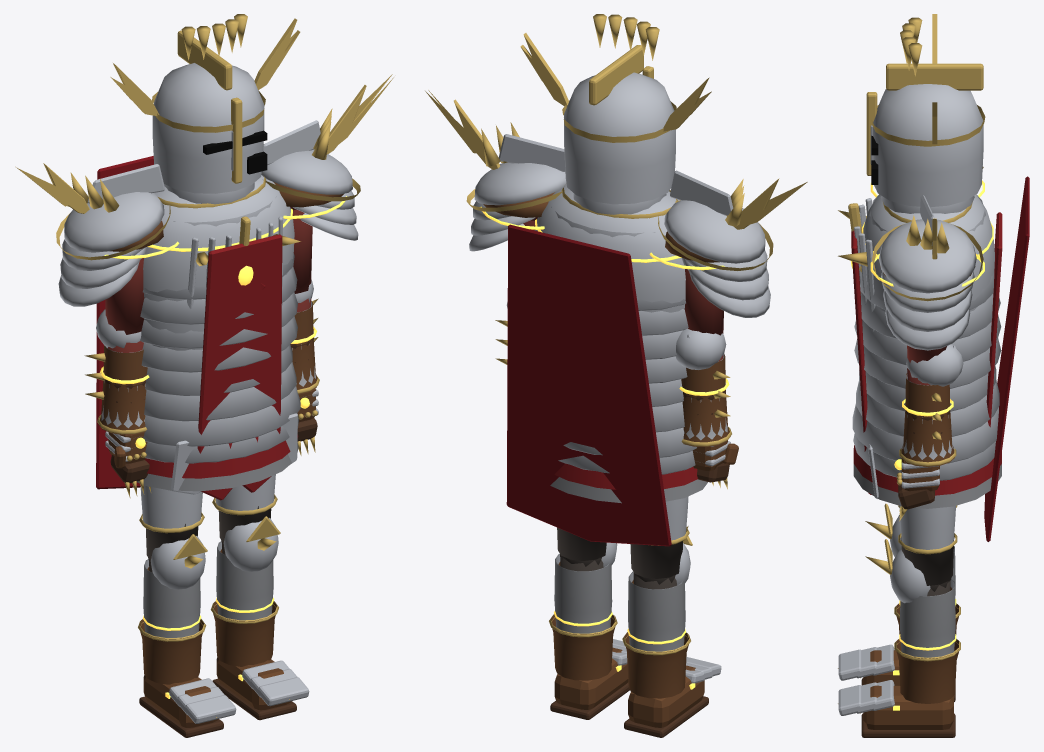
The model's file is hero_knight.glb.
The picture shows the model from 3 angles, left to right: view 1: azimuth 30°, elevation 25°; view 2: azimuth 150°, elevation 25°; view 3: azimuth 270°, elevation 25°; orthographic projection.
Parts seen in each view (by area): view 1: tabard, helm.001, cuirass, lame.002, fauld.005, fauld.004, bracer.001, greave, greave.001, lame, cuff.001, cuff (+42 smaller); view 2: cape, helm.001, cuirass, lame.002, greave.001, greave, lame, bracer.001, cuff.001, cuff, boot.001, boot (+29 smaller); view 3: helm.001, lame, cape, cuirass, greave, bracer, cuff, boot, fauld.005, fauld.004, crestfin, cuisse (+35 smaller).
Boxes of the visible parts, <box> form: tabard: <box>197,234,282,500</box>; helm.001: <box>152,63,264,193</box>; cuirass: <box>143,175,294,301</box>; lame.002: <box>64,192,164,252</box>; fauld.005: <box>143,386,300,446</box>; fauld.004: <box>144,362,296,421</box>; bracer.001: <box>98,345,147,434</box>; greave: <box>216,541,273,620</box>; greave.001: <box>143,559,200,637</box>; lame: <box>261,149,352,194</box>; cuff.001: <box>139,619,204,684</box>; cuff: <box>211,601,277,666</box>; cape: <box>506,224,671,546</box>; helm.001: <box>564,72,675,204</box>; cuirass: <box>534,185,685,312</box>; lame.002: <box>664,200,765,263</box>; greave.001: <box>628,571,685,651</box>; greave: <box>554,553,612,633</box>; lame: <box>474,162,566,205</box>; bracer.001: <box>681,354,730,446</box>; cuff.001: <box>623,632,689,698</box>; cuff: <box>550,614,616,680</box>; boot.001: <box>628,665,704,727</box>; boot: <box>554,647,628,709</box>; helm.001: <box>873,84,983,207</box>; lame: <box>879,219,976,293</box>; cape: <box>984,176,1029,541</box>; cuirass: <box>863,194,994,311</box>; greave: <box>900,579,955,657</box>; bracer: <box>900,373,954,466</box>; cuff: <box>896,639,959,703</box>; boot: <box>863,685,953,729</box>; fauld.005: <box>852,404,998,463</box>; fauld.004: <box>856,380,999,436</box>; crestfin: <box>886,63,983,90</box>; cuisse: <box>899,506,955,549</box>.
Size of the model in its own units: 1.25 by 2.15 by 0.5515.
